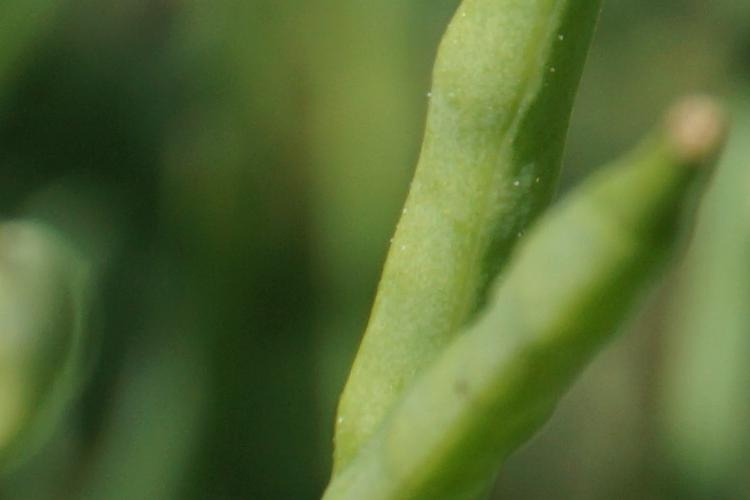pod: (436, 79, 699, 459)
